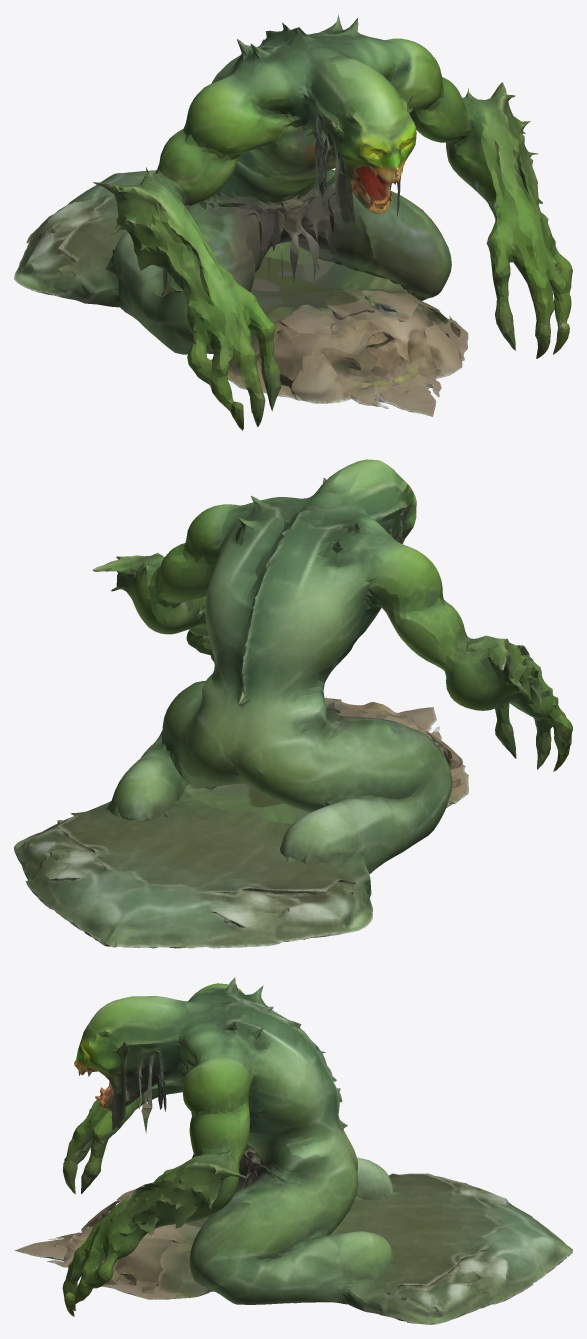
File: cemetery_ghoul.glb
3 renders of one model, top to bottom at view 1: azimuth 30°, elevation 25°; view 2: azimuth 150°, elevation 25°; view 3: azimuth 270°, elevation 25°, orthographic. The views are drawn at different scales.
Visible parts, largest first — view 1: cemetery_ghoul; view 2: cemetery_ghoul; view 3: cemetery_ghoul.
Part boxes in pixels (<box>): cemetery_ghoul: <box>14,14,572,430</box>; cemetery_ghoul: <box>14,459,572,948</box>; cemetery_ghoul: <box>14,977,572,1324</box>.
Bounding box in the file's own units: 1.4 × 0.9504 × 1.9.
1 material, 1 textured.
